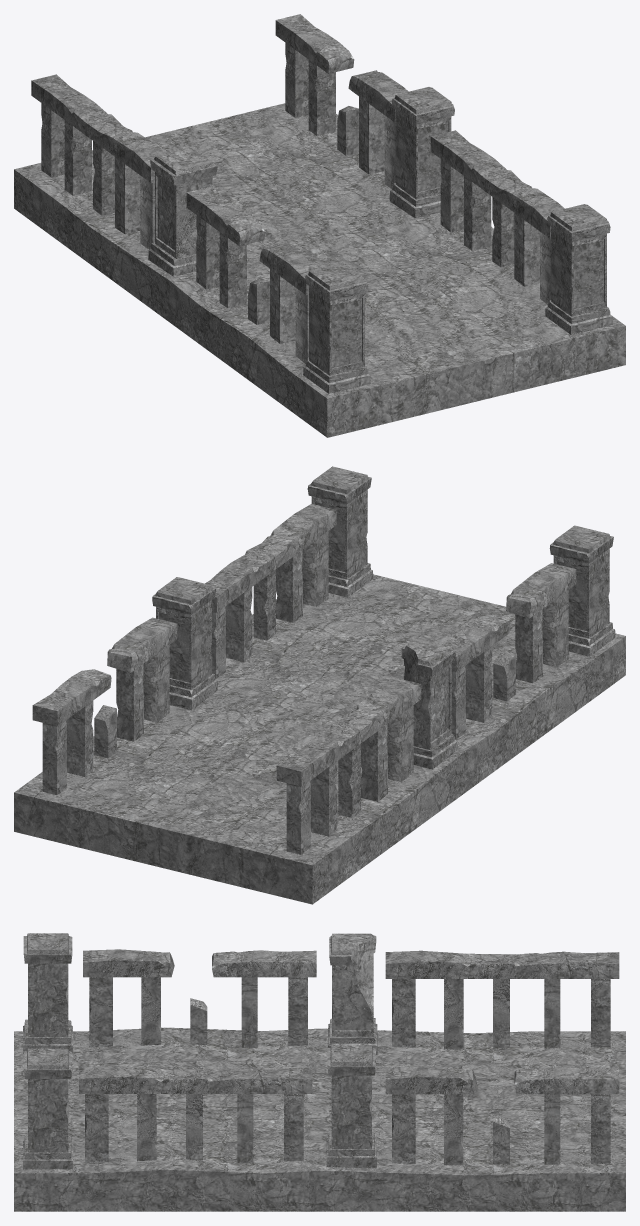
The model's file is materials_3_road_16.fbx.
The picture shows the model from 3 angles, top to bottom: view 1: azimuth 30°, elevation 25°; view 2: azimuth 150°, elevation 25°; view 3: azimuth 270°, elevation 25°; orthographic projection. The views are drawn at different scales.
Parts seen in each view (by area): view 1: materials_3_road_16; view 2: materials_3_road_16; view 3: materials_3_road_16.
Part boxes in pixels (x1,y1,x2,y2): materials_3_road_16: (14, 14, 625, 437); materials_3_road_16: (14, 466, 625, 904); materials_3_road_16: (14, 933, 625, 1211).
Bounding box in the file's own units: 234 × 110 × 425.
